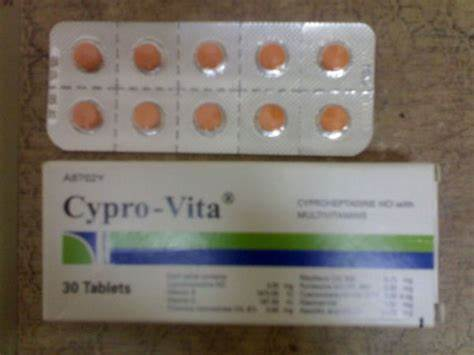Medicine: (35, 149, 453, 345)
